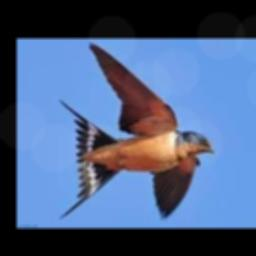Swallow: (59, 42, 219, 219)
